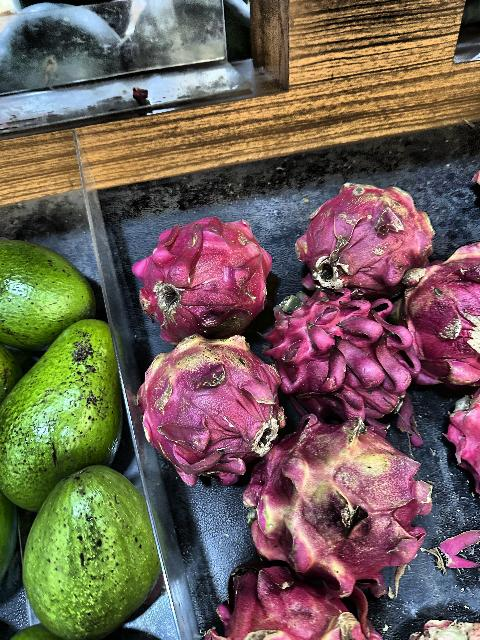buah-naga-belum-matang: (238, 419, 436, 581), (126, 334, 274, 471), (288, 175, 426, 273)
buah-naga-matang: (270, 284, 414, 412), (142, 210, 264, 326), (202, 564, 362, 640), (402, 248, 480, 374)
